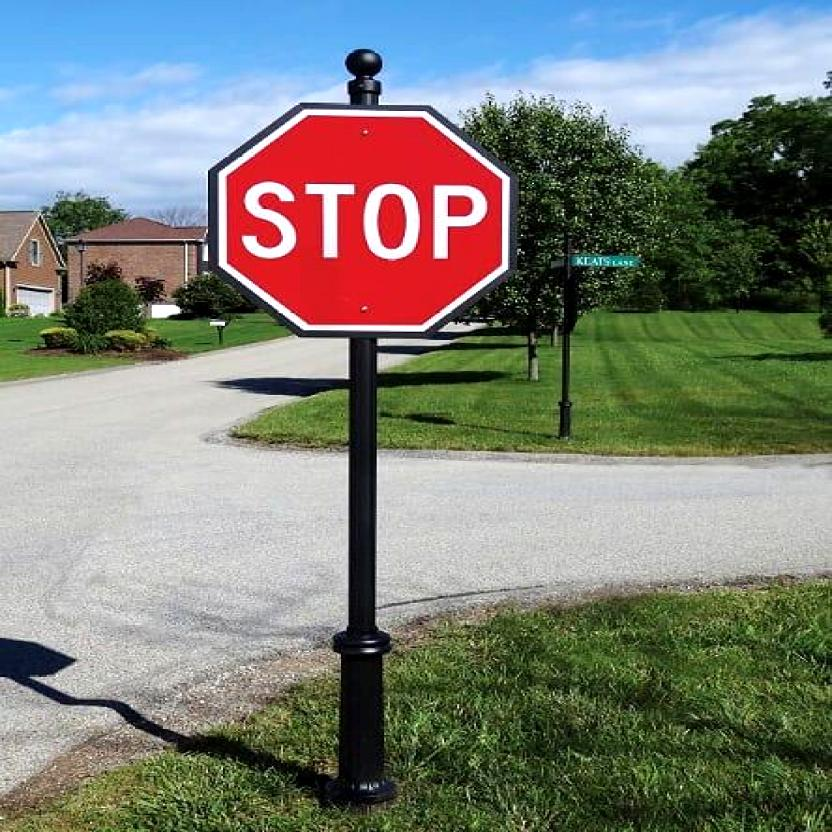Pole: (338, 340, 388, 804), (557, 280, 575, 440)
Sign: (225, 114, 503, 326)
